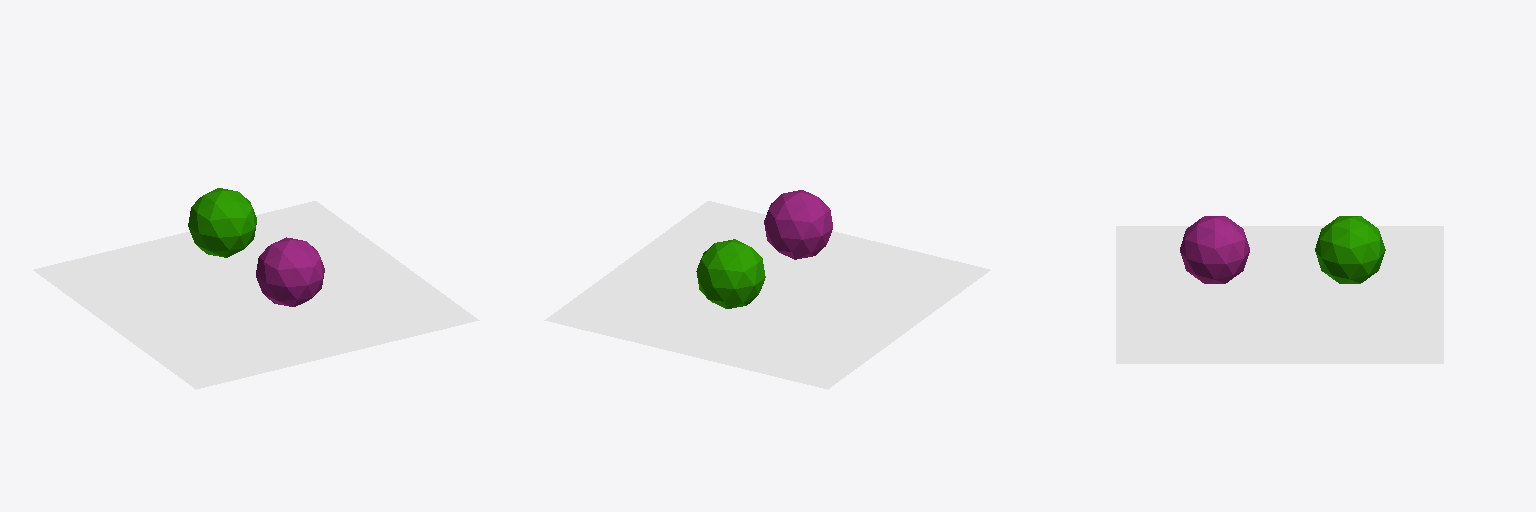
The model's file is leip.obj.
The picture shows the model from 3 angles: view 1: azimuth 30°, elevation 25°; view 2: azimuth 150°, elevation 25°; view 3: azimuth 270°, elevation 25°; orthographic projection.
Visible parts, largest first — view 1: Plane, Icosphere.000_Icosphere.002, Icosphere.001; view 2: Plane, Icosphere.000_Icosphere.002, Icosphere.001; view 3: Plane, Icosphere.001, Icosphere.000_Icosphere.002.
Part boxes in pixels (x1,y1,x2,y2): Plane: (33, 201, 479, 389); Icosphere.000_Icosphere.002: (256, 237, 324, 306); Icosphere.001: (188, 188, 256, 257); Plane: (544, 201, 990, 389); Icosphere.000_Icosphere.002: (764, 190, 832, 259); Icosphere.001: (696, 239, 765, 308); Plane: (1116, 226, 1443, 363); Icosphere.001: (1315, 216, 1385, 283); Icosphere.000_Icosphere.002: (1180, 216, 1249, 283).
Bounding box in the file's own units: 2.51 × 0.662 × 2.51.